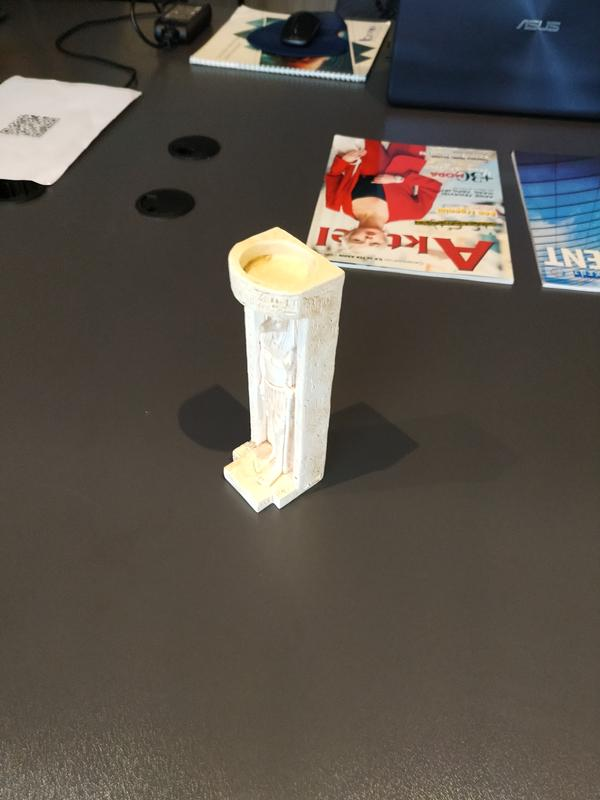heykel: (214, 216, 355, 525)
